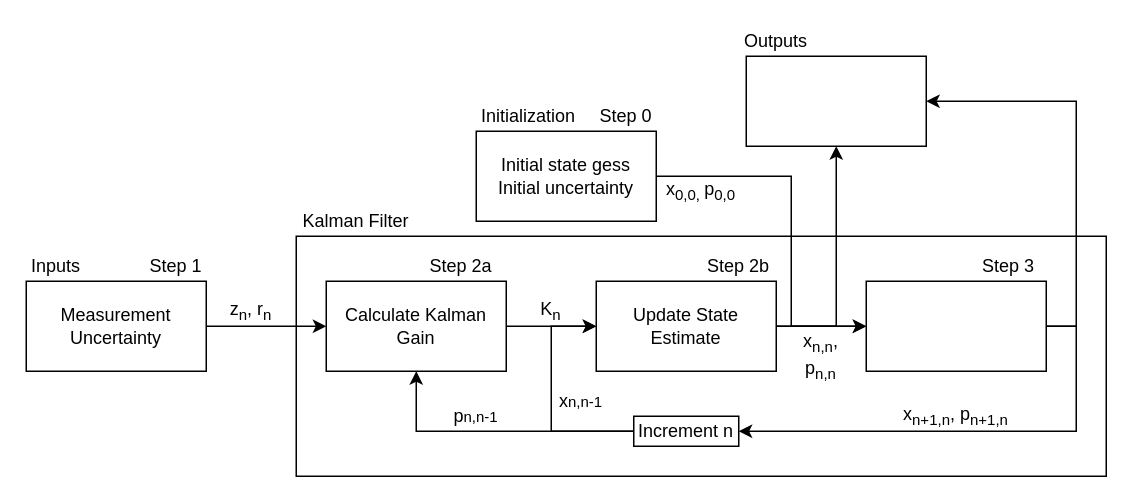
Some shapes in this 1133 by 503 pixel diagram are drawn without their labels. Each missing label, with the centre of its shape:
"Current state and uncertainty Predicted state and uncertainty" goes at pixel 835 100.
"Predict next state" goes at pixel 955 325.
